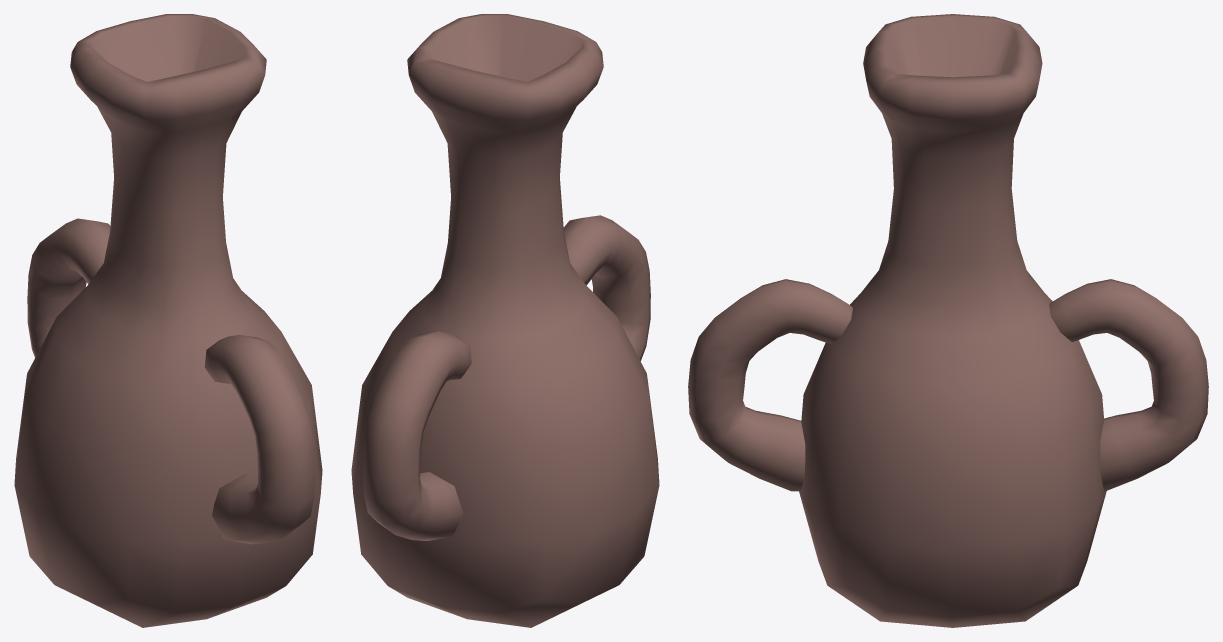
File: vase.fbx
3 views of the same model, side by side, from view 1: azimuth 30°, elevation 25°; view 2: azimuth 150°, elevation 25°; view 3: azimuth 270°, elevation 25° (orthographic).
Visible parts, largest first — view 1: Cube; view 2: Cube; view 3: Cube.
Part boxes in pixels (x1,y1,x2,y2): Cube: [14, 14, 322, 627]; Cube: [351, 14, 659, 627]; Cube: [688, 14, 1208, 627].
Size of the model in its own units: 403 by 473 by 238.
